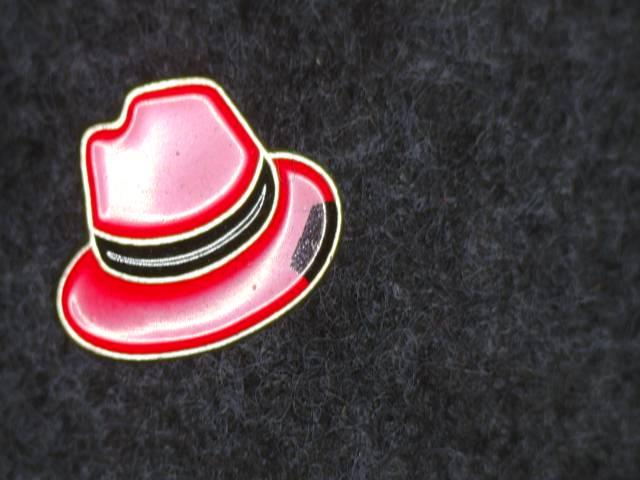Red-Hat: (32, 61, 374, 403)
Scratch: (285, 186, 351, 298)
